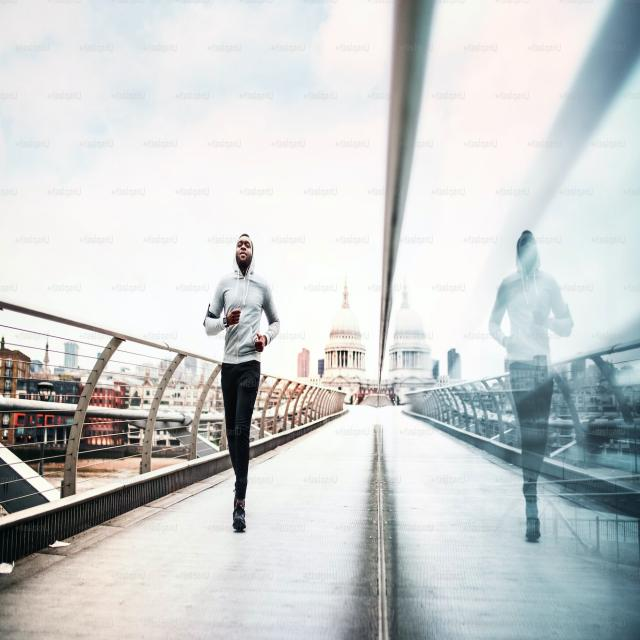adult: (204, 231, 280, 533)
